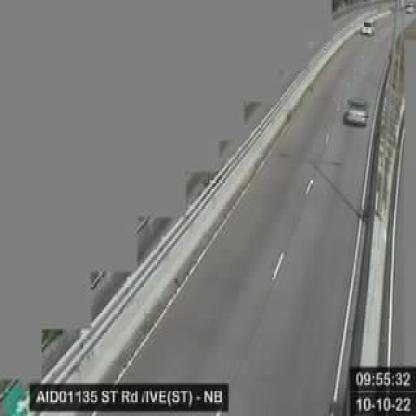Car: (344, 94, 368, 126), (360, 16, 375, 36)
